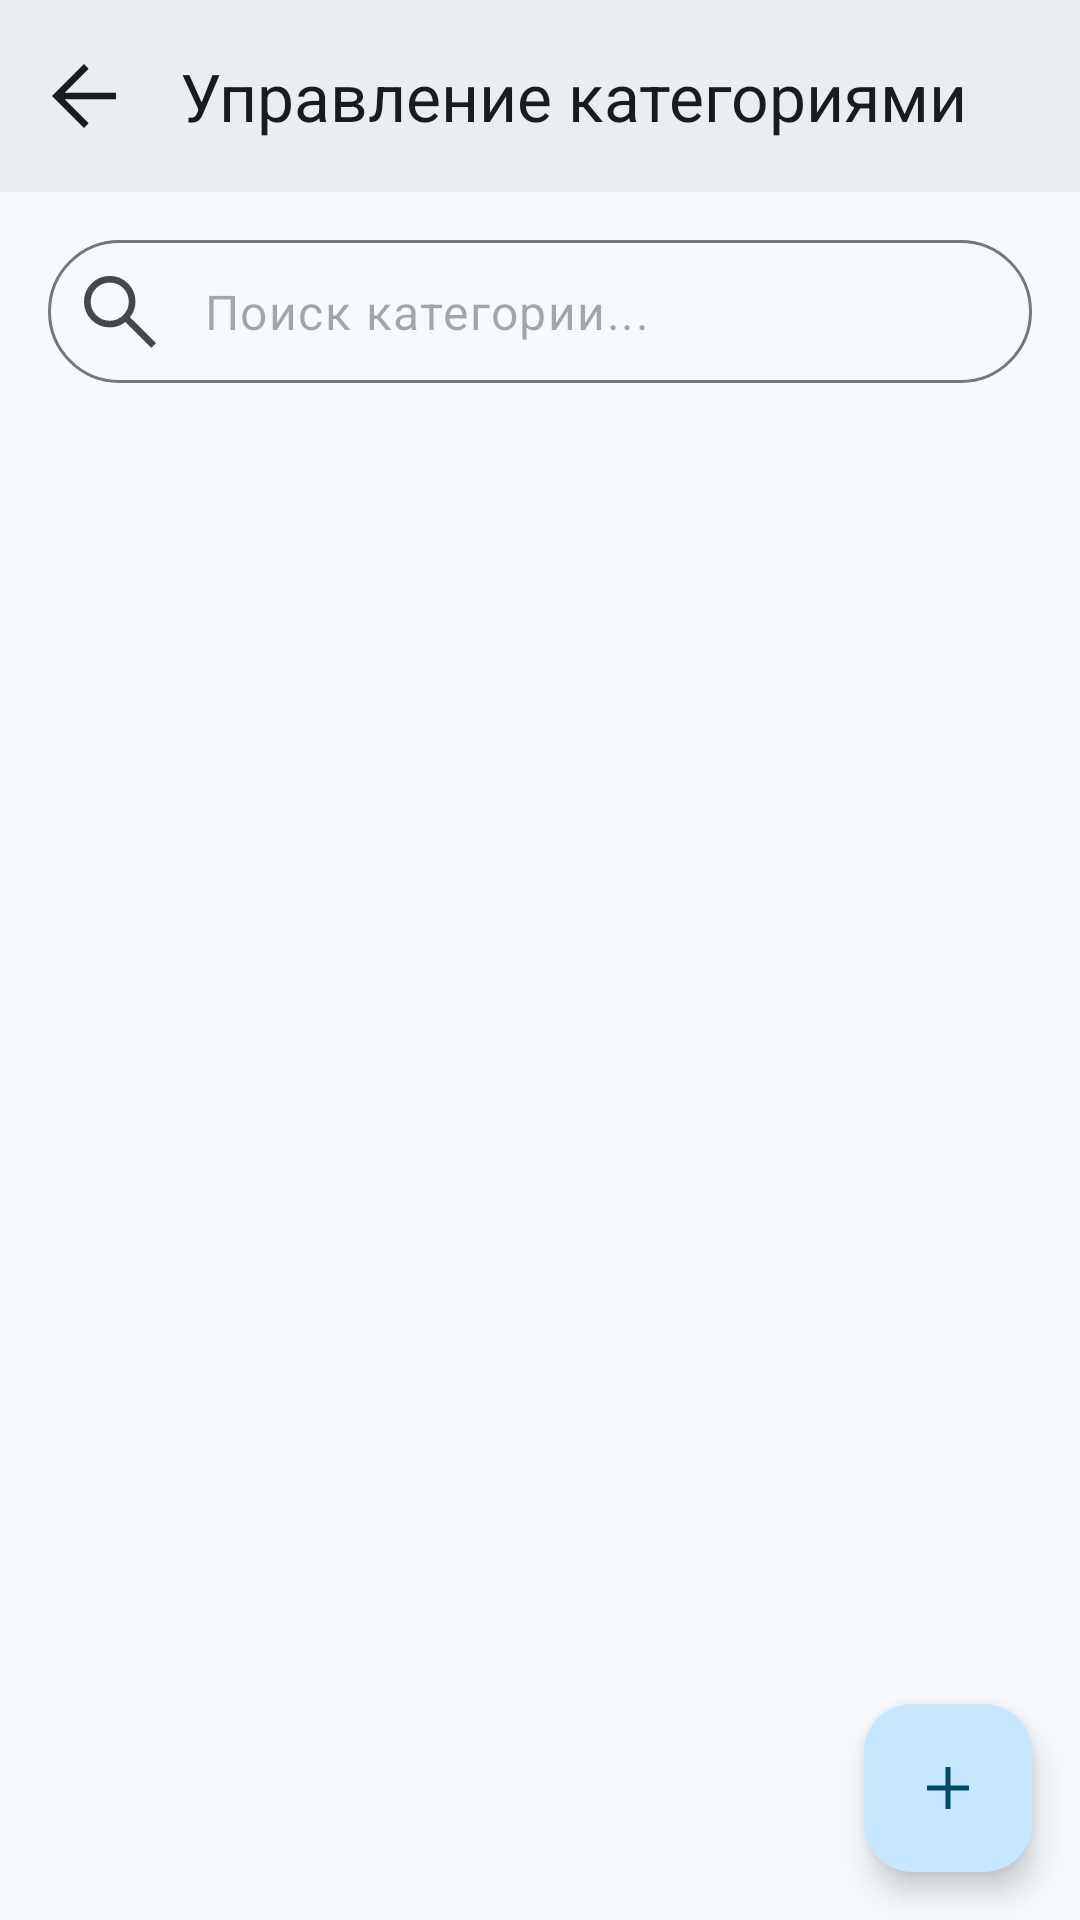

Screen size 1080 × 1920. Icon name, then its center in pixels as [x,y]:
Добавление категории: [948,1788]
